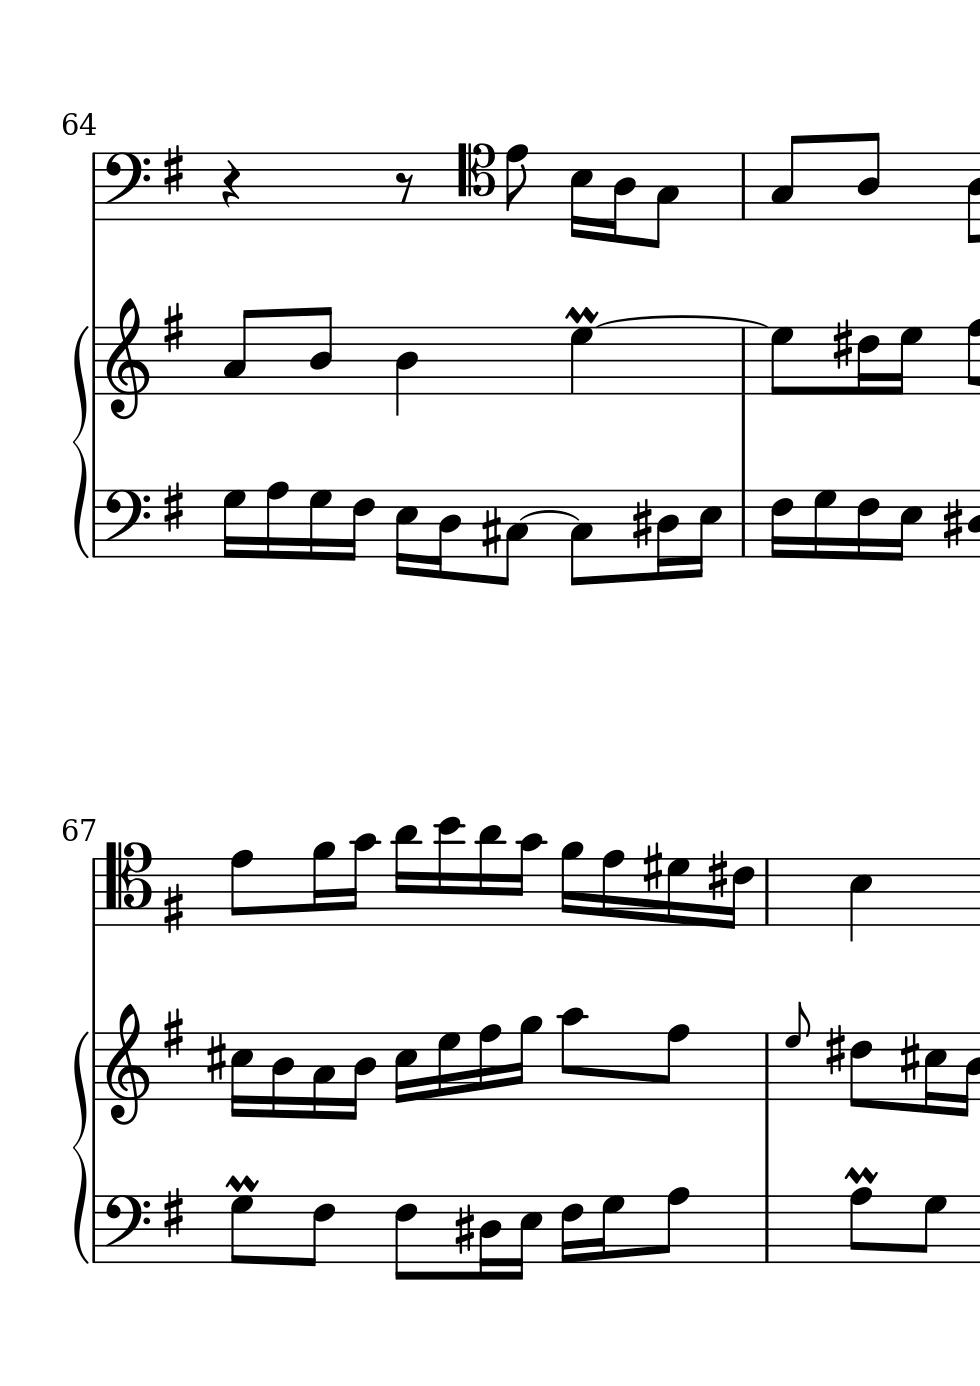16_10: (344, 832, 378, 928), (511, 832, 545, 928)
16_11: (391, 823, 419, 930), (474, 822, 502, 928)
16_12: (434, 814, 463, 929)
16_3: (309, 1031, 336, 1119)
16_4: (605, 150, 636, 243), (430, 487, 461, 580), (345, 1030, 377, 1121), (654, 487, 680, 581), (269, 1031, 296, 1120), (477, 1193, 501, 1282), (957, 1031, 979, 1118)
16_5: (690, 488, 723, 580), (509, 1194, 543, 1282), (891, 488, 923, 563), (228, 1031, 253, 1118), (567, 150, 592, 240), (393, 488, 418, 577), (922, 1030, 947, 1115), (392, 1031, 417, 1106)
16_6: (342, 487, 375, 564), (725, 857, 755, 930), (855, 487, 880, 563), (768, 487, 794, 560), (558, 1194, 584, 1265), (856, 324, 879, 397)
16_7: (889, 324, 922, 398), (593, 1192, 624, 1265), (305, 486, 332, 563), (810, 487, 837, 563), (434, 1029, 460, 1104), (664, 856, 690, 929), (220, 487, 245, 561)
16_8: (263, 480, 288, 561), (476, 1023, 501, 1103), (599, 849, 624, 927)
16_9: (509, 1015, 542, 1103), (310, 840, 335, 928), (559, 840, 583, 928)
4: (80, 111, 97, 137)
4_4: (393, 324, 418, 418)
4_5: (847, 856, 873, 945)
4_7: (568, 326, 594, 396)
6: (62, 110, 78, 137), (62, 815, 78, 842)
7: (78, 815, 97, 843)
8_10: (557, 1007, 587, 1103)
8_3: (647, 150, 680, 250), (497, 488, 529, 587), (222, 308, 257, 396), (769, 133, 803, 223), (568, 487, 594, 587)
8_4: (308, 305, 334, 397), (855, 131, 881, 222)
8_6: (300, 1194, 334, 1269), (393, 1193, 418, 1283), (848, 1030, 873, 1110)
8_7: (914, 1194, 946, 1264), (227, 1193, 255, 1266), (768, 324, 794, 397)
8_8: (657, 1022, 690, 1103), (655, 1185, 688, 1265), (503, 142, 529, 223), (847, 1186, 874, 1266), (229, 848, 255, 927)
Brace: (70, 323, 90, 561), (70, 1027, 89, 1267)
D_S: (162, 1008, 225, 1085)
Fclef: (101, 1192, 152, 1265), (99, 150, 151, 220), (100, 487, 150, 549)
Gclef: (104, 1001, 152, 1126), (104, 297, 150, 420)
Rests4: (220, 158, 241, 209)
Rests8: (393, 170, 414, 204)
Sharp: (160, 1185, 187, 1241), (159, 300, 186, 353), (160, 143, 186, 197), (160, 1006, 186, 1060), (160, 480, 185, 536), (629, 498, 653, 551), (204, 1031, 227, 1085), (941, 496, 964, 549), (640, 841, 663, 894), (705, 849, 729, 902), (452, 1204, 475, 1256), (830, 318, 853, 372), (898, 1031, 921, 1085), (823, 1023, 845, 1076), (478, 506, 501, 558), (162, 883, 185, 935)
ShortTrill: (223, 1173, 261, 1193), (842, 1164, 879, 1185), (562, 304, 599, 323)
Single_barline: (734, 328, 753, 394), (733, 490, 752, 557), (734, 153, 752, 220), (758, 1196, 775, 1262), (758, 1034, 775, 1099), (86, 153, 102, 220), (758, 859, 774, 924), (88, 326, 102, 394), (88, 1032, 102, 1101), (88, 1196, 102, 1263), (87, 858, 101, 922), (88, 490, 101, 558)
Slur: (518, 510, 581, 522)
Tensor_Cclef: (102, 840, 152, 927), (454, 141, 495, 222)
